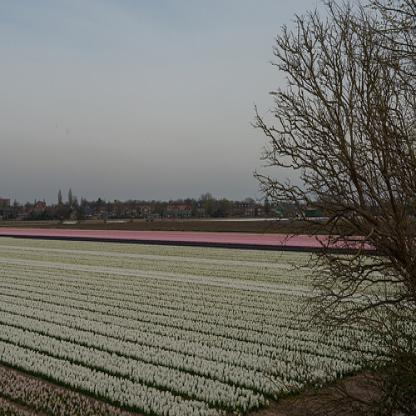TULIP: (6, 224, 375, 410)
